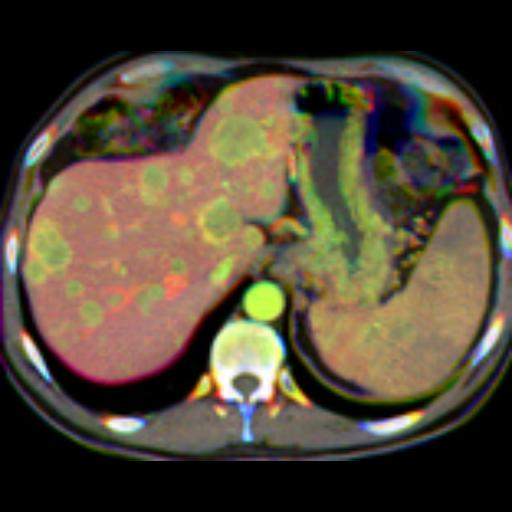Tumor: (209, 114, 275, 167), (28, 219, 72, 282), (197, 196, 242, 246), (140, 164, 168, 204), (136, 285, 163, 313), (79, 301, 102, 326), (73, 196, 90, 211), (66, 281, 83, 296), (170, 258, 185, 273)
